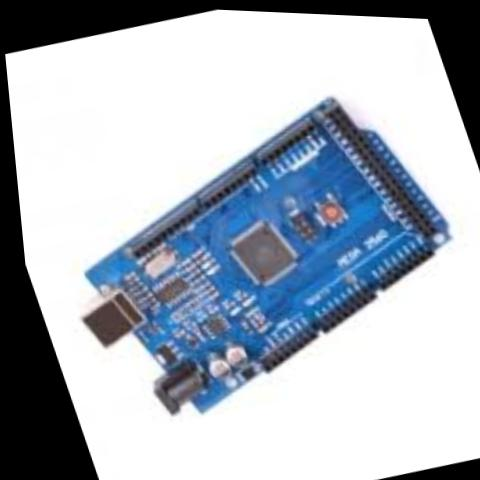Arduino-Mega: (4, 54, 480, 455)
